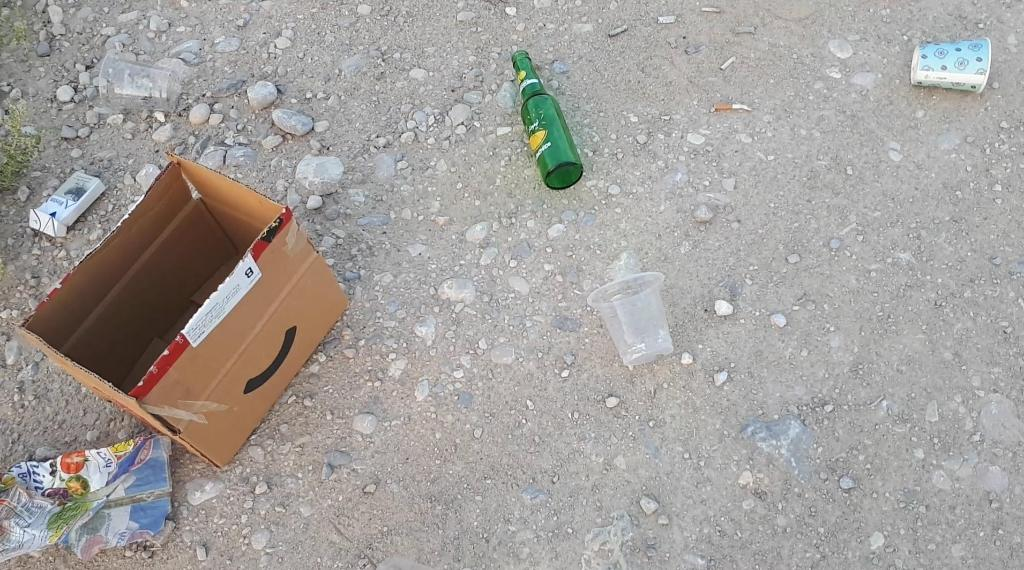garbage: (47, 176, 365, 464), (499, 45, 591, 194), (511, 50, 584, 191), (27, 160, 114, 244)
